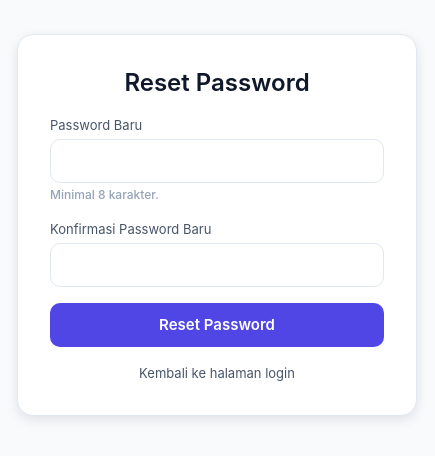
Scenario: ResetPasswordPage › rejects submission when the passwords do not match
The width and height of the screenshot is (435, 456).
Type "NewStrongPass!1" into the password field labelled "Password Baru" at x=217, y=161, box [50,139,384,183]
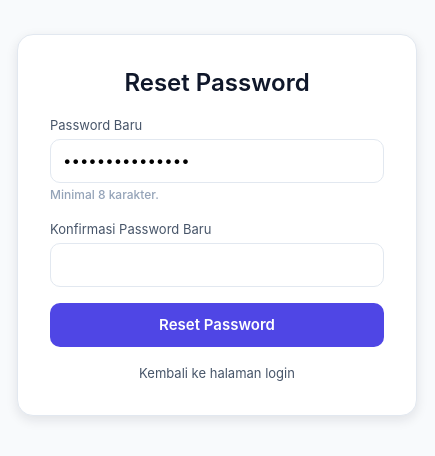
Type "Different!2" into the password field labelled "Konfirmasi Password Baru" at x=217, y=265, box [50,243,384,287]
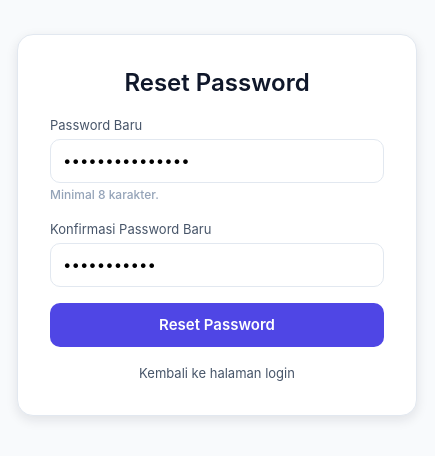
Click the button "Reset Password" at x=217, y=325, box [50,303,384,347]
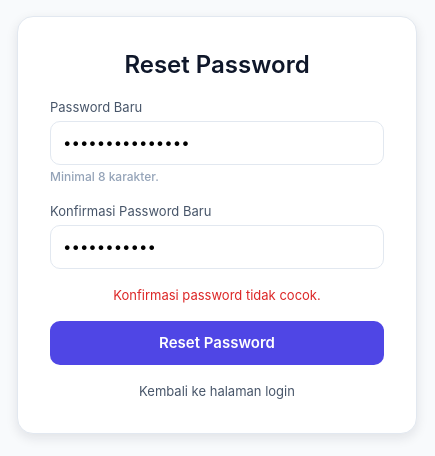
Now the message reads "Konfirmasi password tidak cocok.", box [113,287,321,303]
